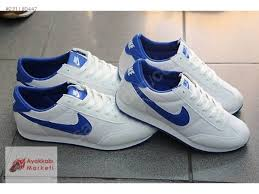nike: (19, 109, 92, 136), (140, 91, 189, 128)
